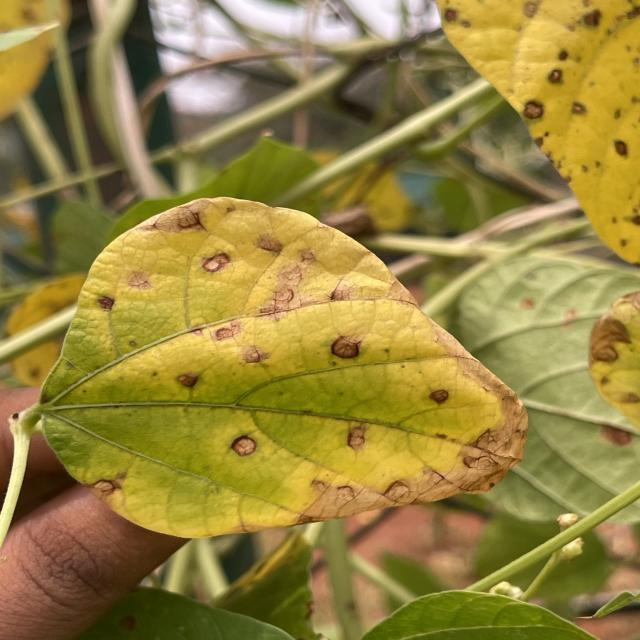Dolicos bean_cercospora leaf spot: (36, 200, 528, 537)
